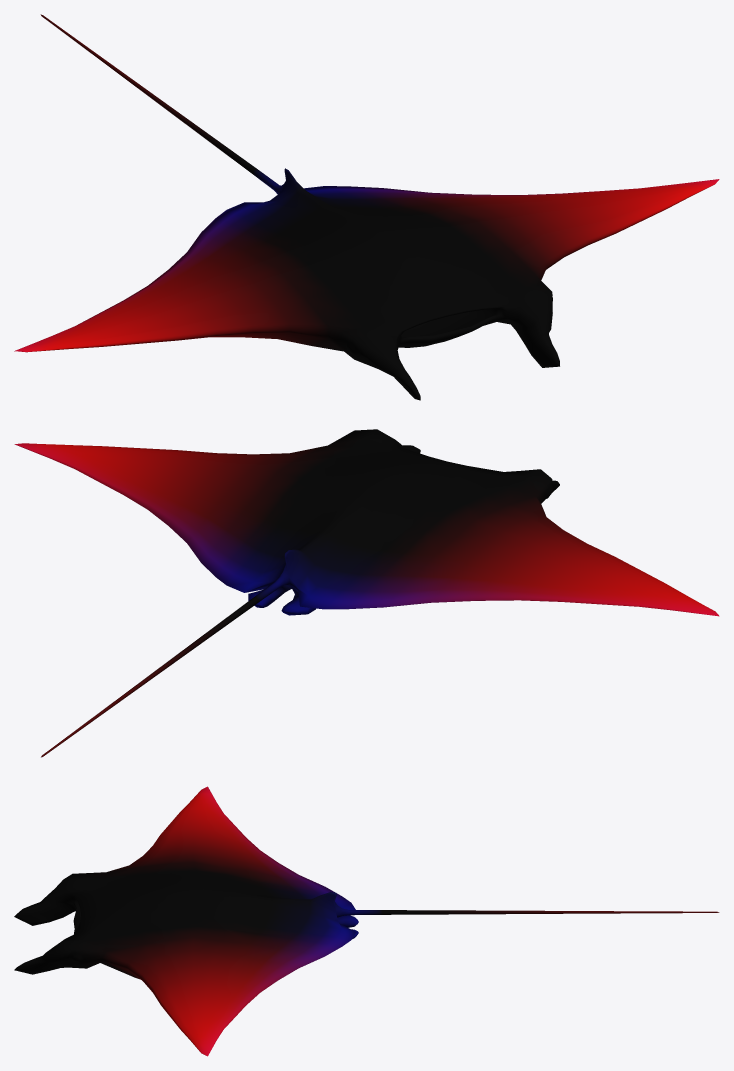
3 views of the same model, one above another, from view 1: azimuth 30°, elevation 25°; view 2: azimuth 150°, elevation 25°; view 3: azimuth 270°, elevation 25° (orthographic). The views are drawn at different scales.
Parts seen in each view (by area): view 1: Plane.002; view 2: Plane.002; view 3: Plane.002.
Boxes of the visible parts, x1,y1,x2,y2 form: Plane.002: [14, 14, 719, 400]; Plane.002: [14, 429, 719, 757]; Plane.002: [14, 786, 719, 1056].
Bounding box in the file's own units: 5.74 × 0.6197 × 6.34.
